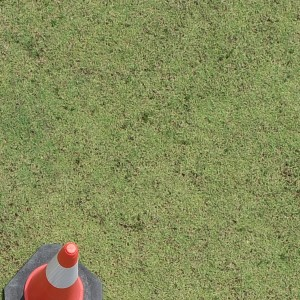traffic cone: (4, 242, 103, 300)
